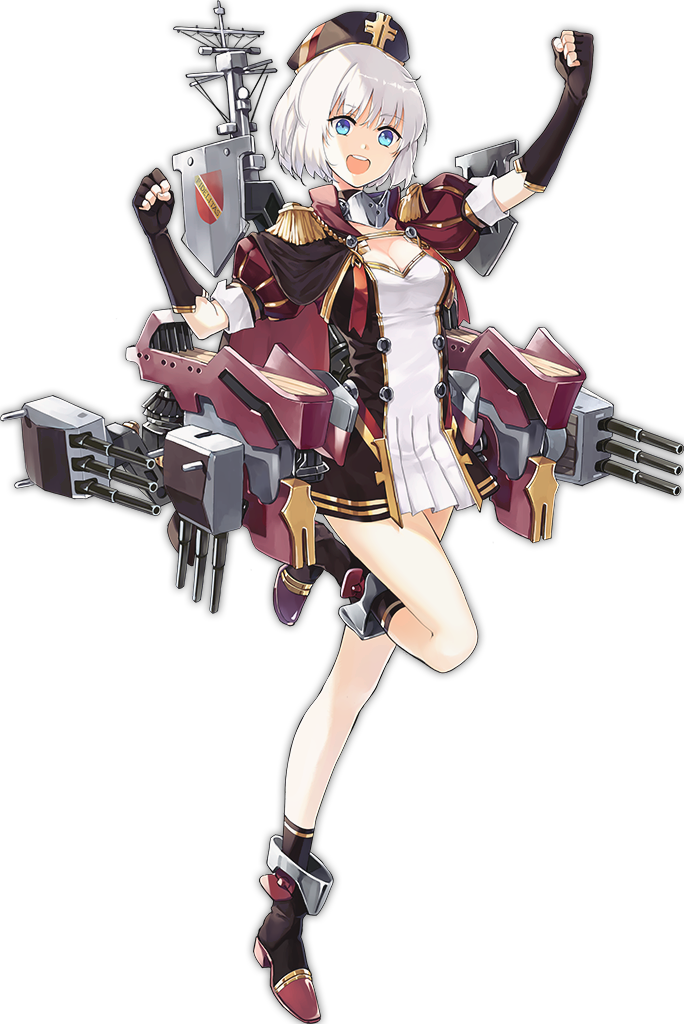person: (74, 1, 620, 790)
